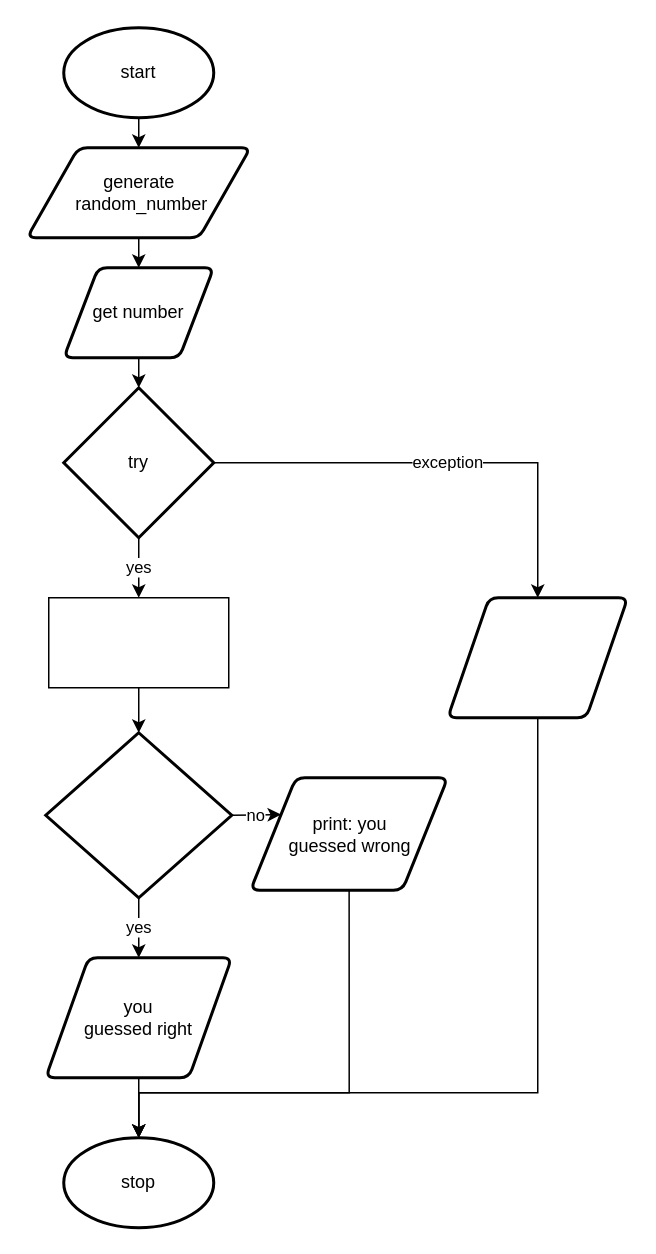
The diagram is 656 pixels wide and 1254 high, and some of its shapes have lost their labels. The shapes that lost their labels are listed below. From the top down, each one's box as (x1, y1, x2, y2) in pixels, then its label:
(47, 596, 229, 688): convert string to int
(446, 596, 628, 718): print: number is not a number
(44, 730, 232, 898): if number == random_number
